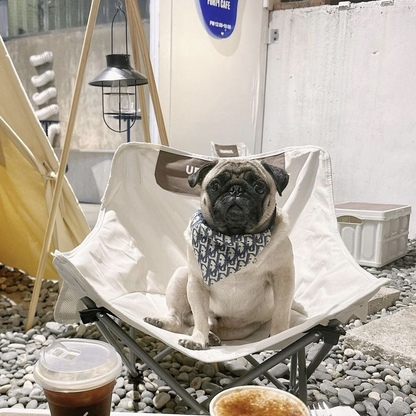Pug: (138, 153, 310, 353)
